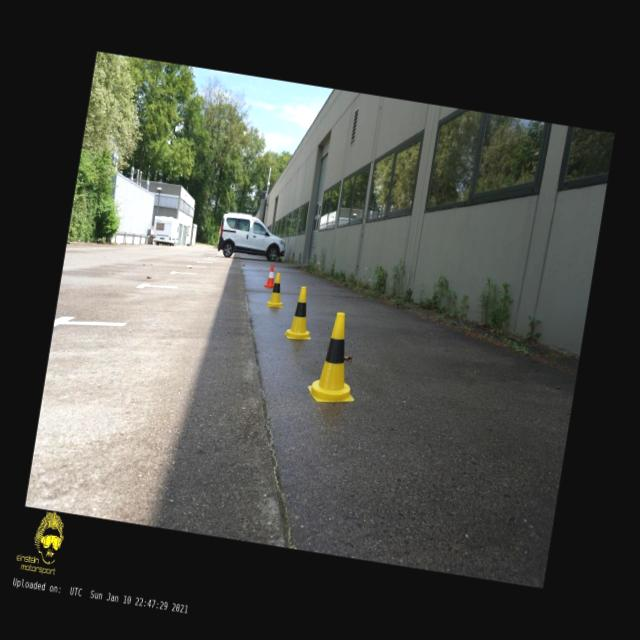orange_cone: (264, 264, 278, 288)
yellow_cone: (306, 309, 367, 407), (284, 284, 319, 342), (266, 271, 288, 308)
